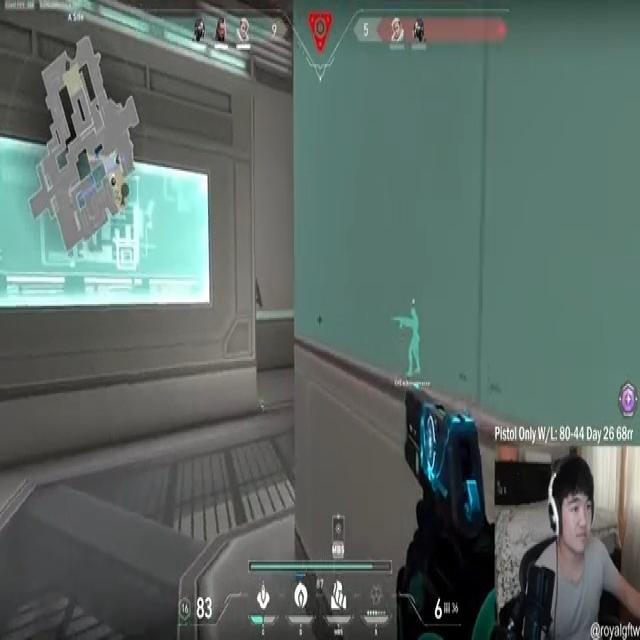ally behind wall: (392, 304, 427, 385)
